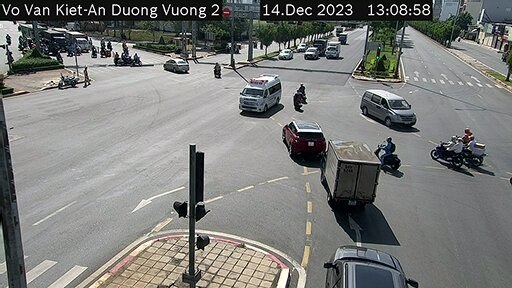car: (329, 238, 410, 288), (362, 85, 418, 132), (277, 116, 328, 162), (162, 55, 190, 81), (278, 49, 297, 62), (307, 45, 320, 64)
motorbike: (372, 138, 401, 170), (460, 126, 483, 166), (435, 137, 464, 164), (289, 87, 302, 110), (295, 77, 306, 101), (211, 63, 222, 78)
truck: (323, 140, 383, 204), (325, 38, 346, 60)
